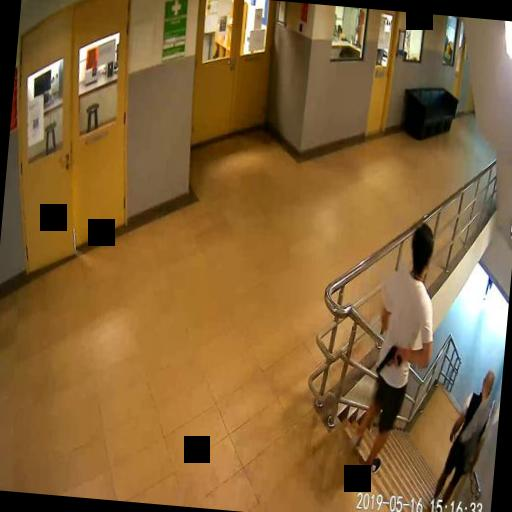Handgun: (374, 342, 402, 375)
